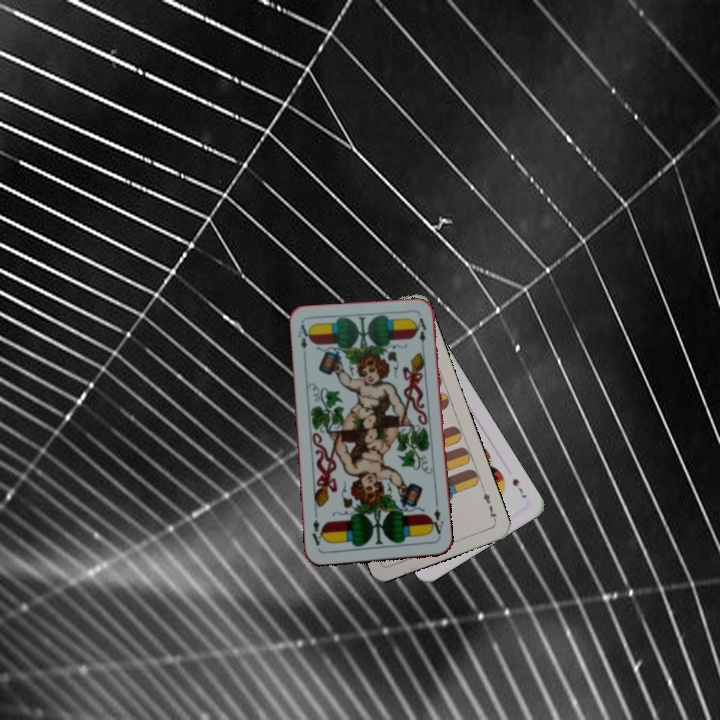E7: (479, 485, 499, 524)
EA: (294, 321, 313, 361), (426, 505, 446, 541)
S7: (508, 474, 529, 501)
